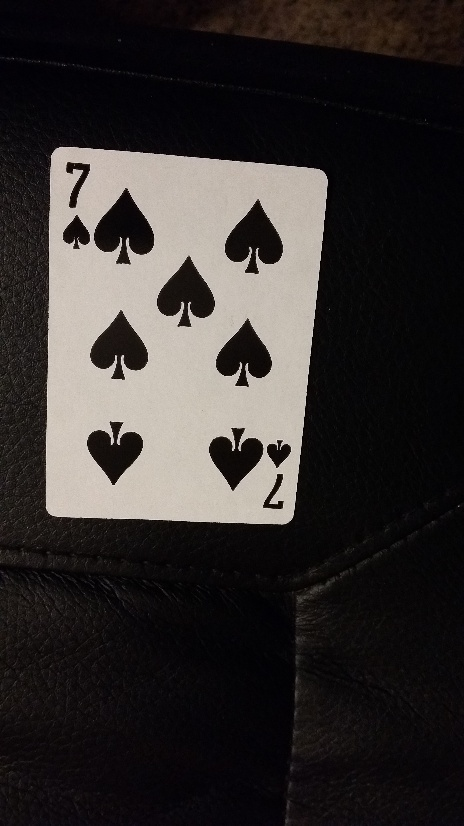S7: (56, 156, 95, 258), (262, 434, 292, 513)
